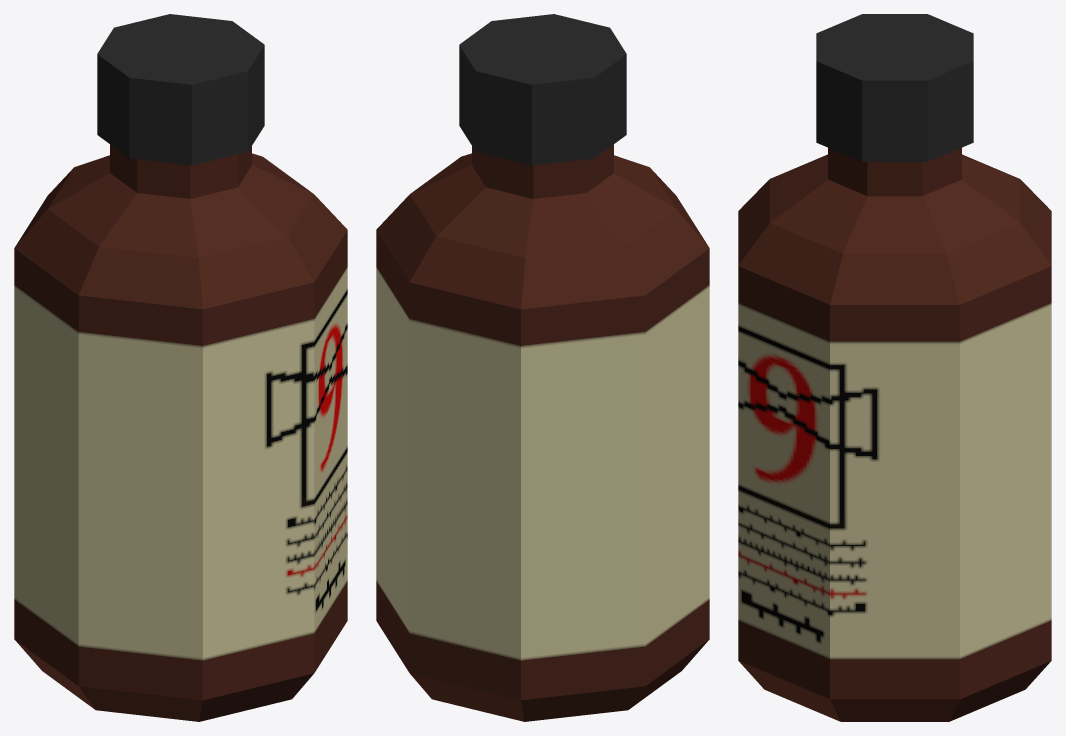
File: CleaningSolvent.fbx
3 renders of one model, left to right at view 1: azimuth 30°, elevation 25°; view 2: azimuth 150°, elevation 25°; view 3: azimuth 270°, elevation 25°, orthographic.
Parts seen in each view (by area): view 1: Cylinder; view 2: Cylinder; view 3: Cylinder.
Part boxes in pixels (box(x1,y1,x2,y2)): Cylinder: box(14, 14, 347, 721); Cylinder: box(376, 14, 709, 721); Cylinder: box(738, 14, 1051, 721).
Bounding box in the file's own units: 0.0382 × 0.0833 × 0.0382.
